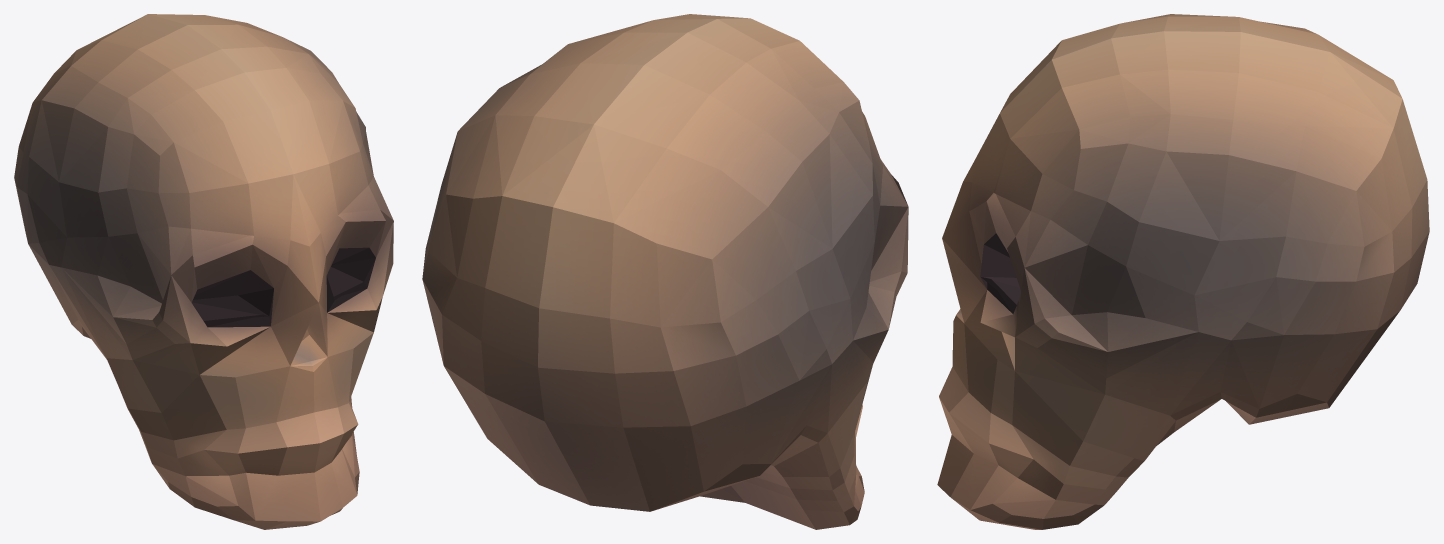
File: Skull.fbx
The picture shows the model from 3 angles, left to right: view 1: azimuth 30°, elevation 25°; view 2: azimuth 150°, elevation 25°; view 3: azimuth 270°, elevation 25°; orthographic projection. The views are drawn at different scales.
Visible parts, largest first — view 1: Skull2; view 2: Skull2; view 3: Skull2.
Part boxes in pixels (x1,y1,x2,y2): Skull2: [14, 14, 393, 529]; Skull2: [422, 14, 908, 529]; Skull2: [937, 14, 1429, 529].
Size of the model in its own units: 34.94 by 48.02 by 45.12.
